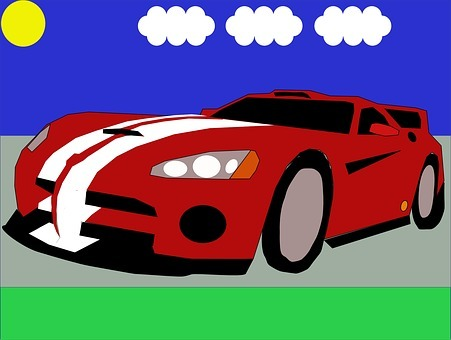car: (1, 89, 444, 277)
